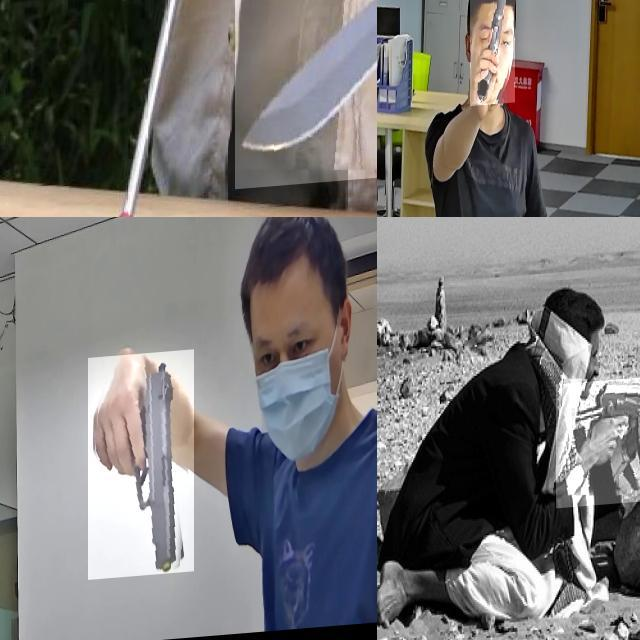-: (235, 0, 377, 194)
gun-knife-thesis - v11 Yolov5 augmented: (88, 357, 194, 586), (555, 375, 640, 512), (470, 0, 514, 110)
